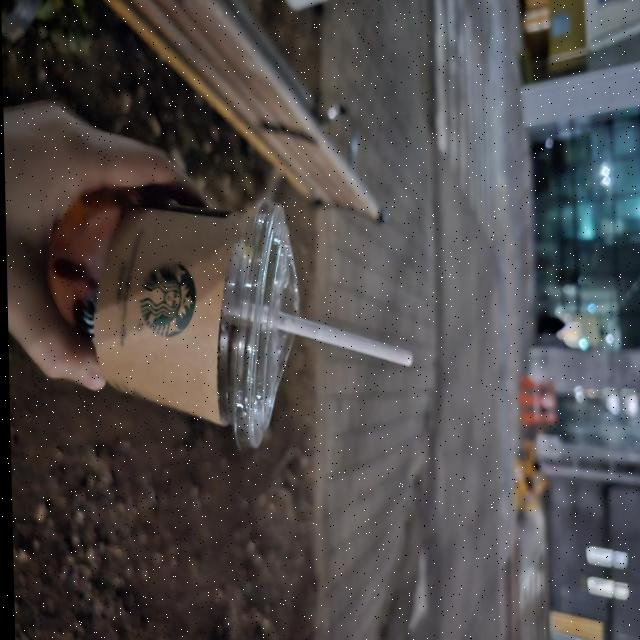cup: (29, 184, 309, 454)
